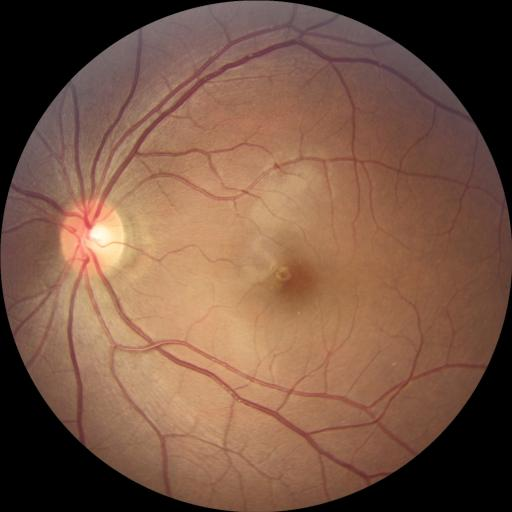Optic Cup: (86, 225, 110, 253)
Optic Disc: (60, 200, 125, 275)
